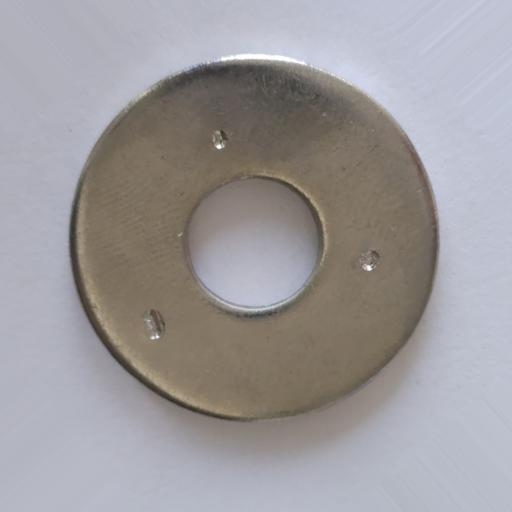circular_cavity: (142, 310, 168, 339), (358, 250, 380, 272), (213, 130, 230, 149)
